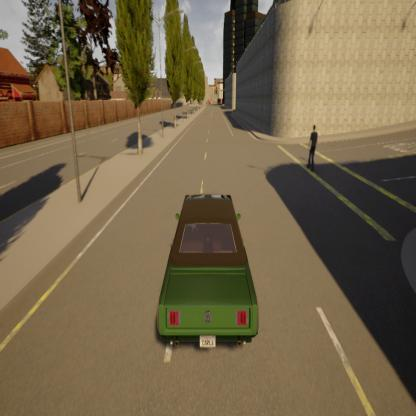Cars: (157, 192, 259, 350)
Pedestrian: (307, 120, 319, 172)
